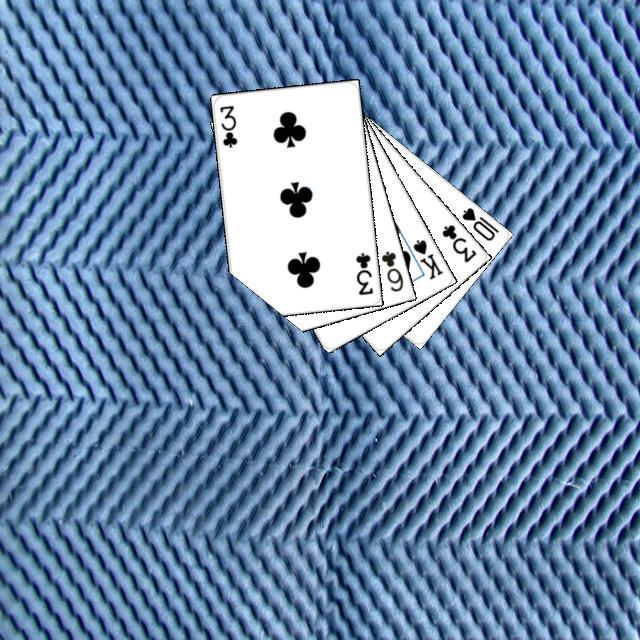10s: (457, 202, 501, 243)
3c: (437, 220, 478, 264), (351, 247, 375, 296), (215, 100, 239, 149)
6c: (376, 246, 405, 293)
Ks: (408, 234, 444, 281)
